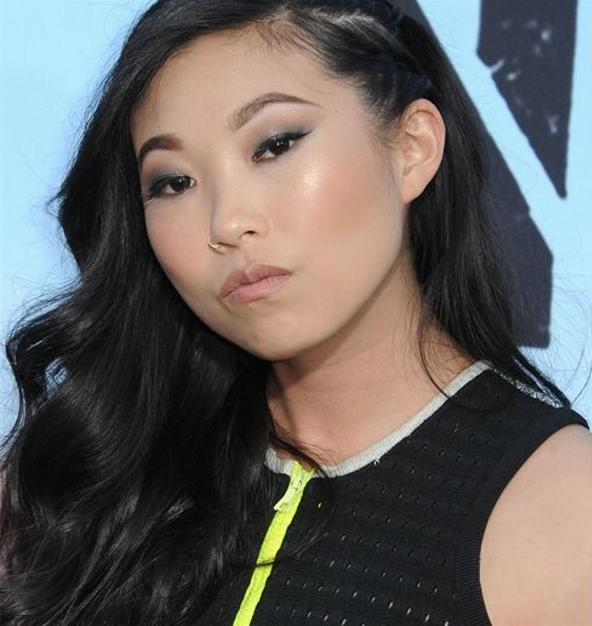Sober: (128, 43, 404, 367)
